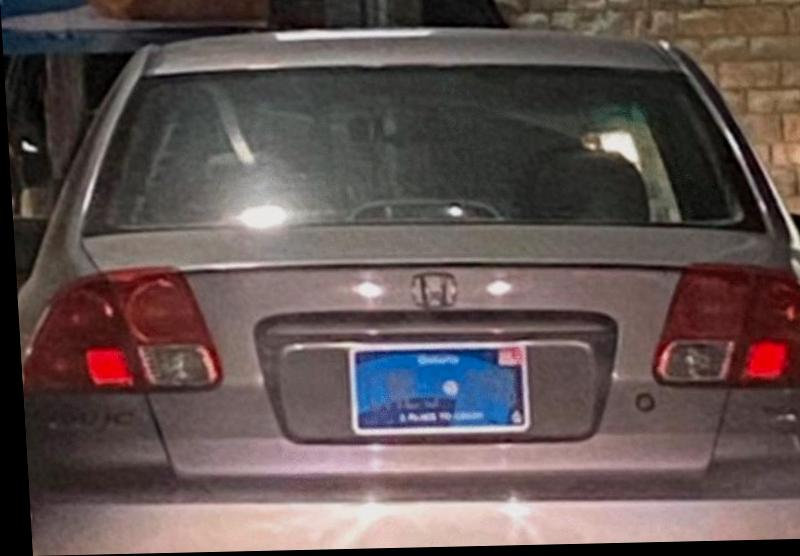License_Plate: (345, 336, 535, 441)
